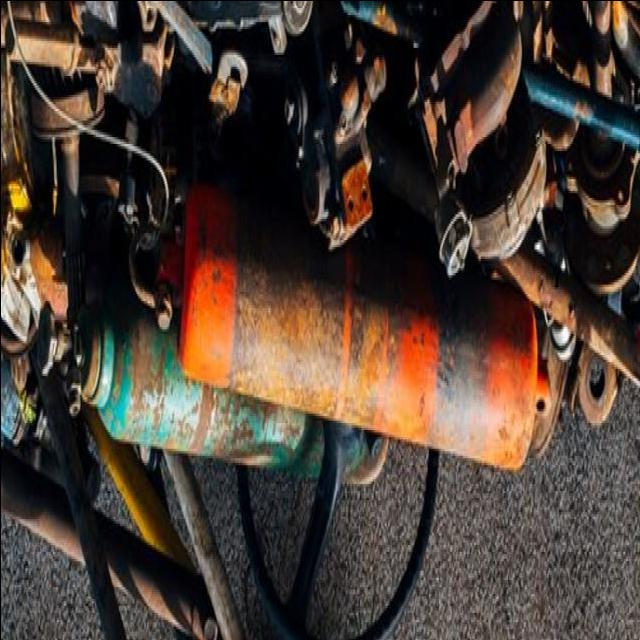cylinder: (178, 181, 553, 473), (35, 300, 314, 475)
